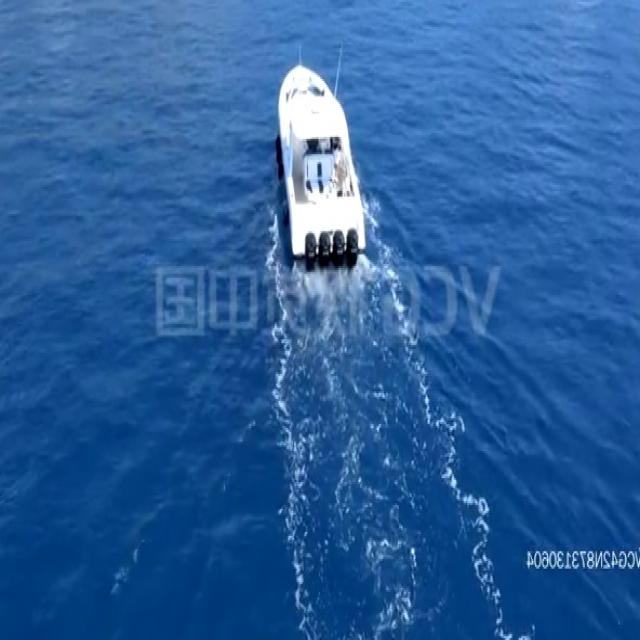houseboat: (275, 58, 367, 257)
